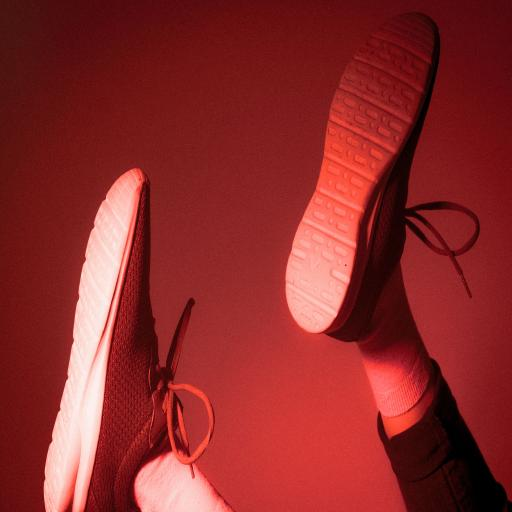shoe: (275, 7, 444, 346), (44, 162, 174, 512)
